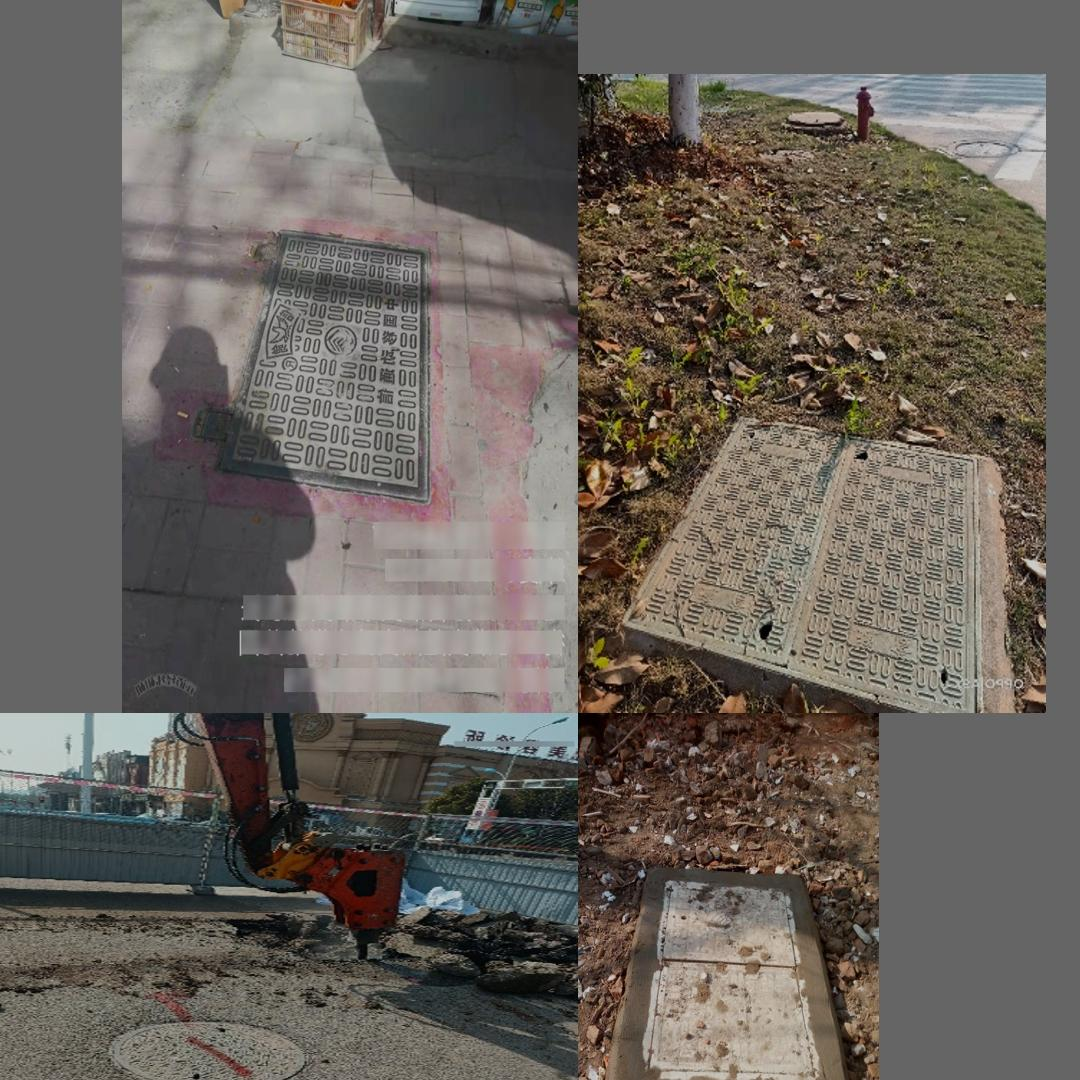good: (618, 413, 984, 713), (191, 226, 430, 506), (640, 879, 821, 1080), (114, 1017, 308, 1080)
